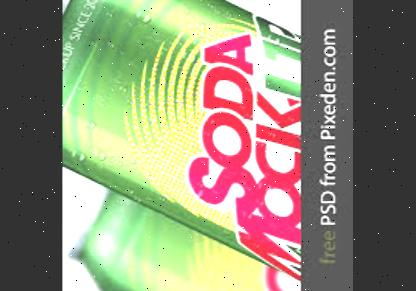Can: (62, 0, 303, 277), (69, 191, 302, 291)
